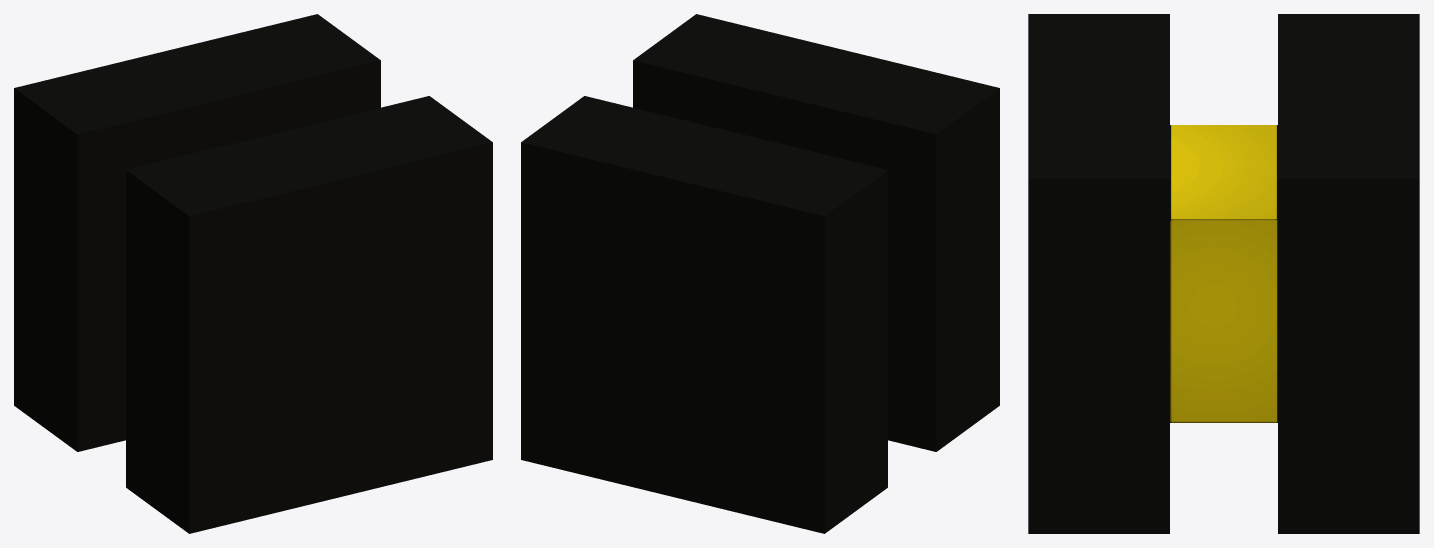
Rendered from battery.obj.
3 views of the same model, side by side, from view 1: azimuth 30°, elevation 25°; view 2: azimuth 150°, elevation 25°; view 3: azimuth 270°, elevation 25° (orthographic). The views are drawn at different scales.
Parts seen in each view (by area): view 1: Cube; view 2: Cube; view 3: Cube.
Boxes of the visible parts, x1,y1,x2,y2 form: Cube: (14,14,492,533); Cube: (521,14,999,533); Cube: (1028,14,1419,533).
Size of the model in its own units: 1 by 1 by 1.
Materials: 1 (1 with a texture image).
